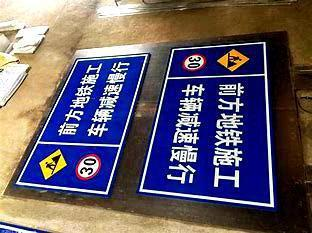sign: (146, 40, 279, 213), (18, 44, 146, 194)
